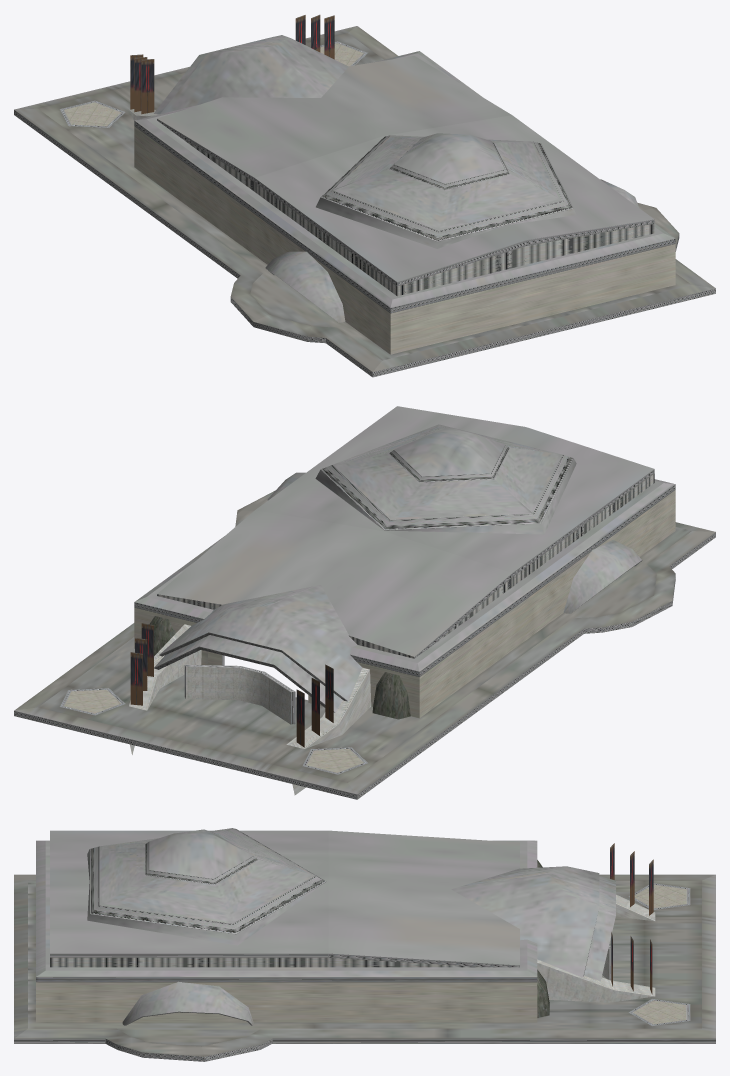
Rendered from mun_corl_guild_theater_s01_r0_mesh_l3.fbx.
The picture shows the model from 3 angles, top to bottom: view 1: azimuth 30°, elevation 25°; view 2: azimuth 150°, elevation 25°; view 3: azimuth 270°, elevation 25°; orthographic projection. The views are drawn at different scales.
Parts seen in each view (by area): view 1: mesh_node; view 2: mesh_node; view 3: mesh_node.
Boxes of the visible parts, x1,y1,x2,y2 form: mesh_node: (14, 14, 715, 377); mesh_node: (14, 406, 715, 799); mesh_node: (14, 828, 715, 1061).
Size of the model in its own units: 81.75 by 31.04 by 121.
